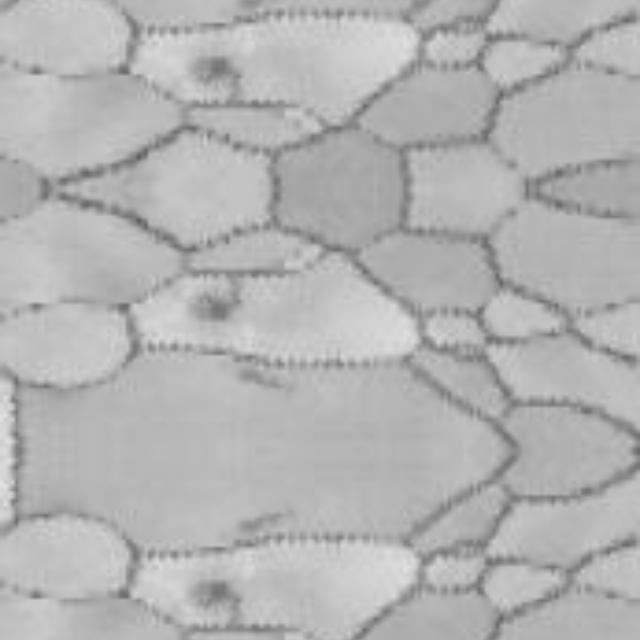good_void: (189, 51, 249, 95), (189, 284, 249, 327), (189, 577, 249, 620), (239, 370, 298, 397), (239, 507, 298, 534), (239, 0, 283, 8)
